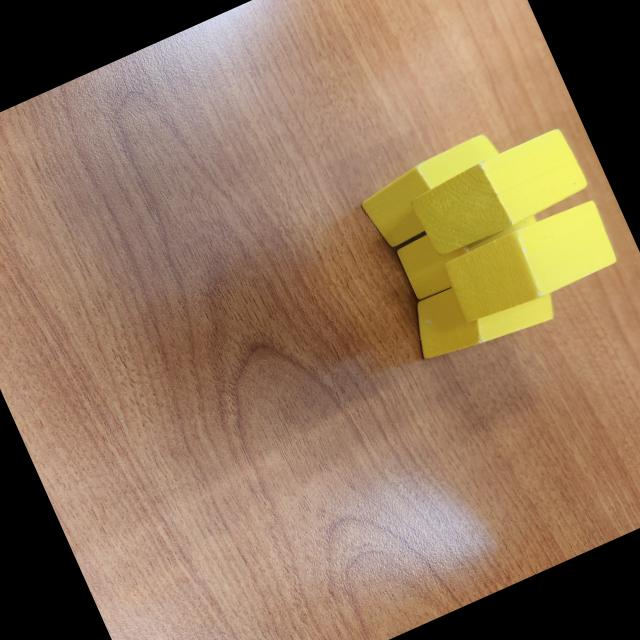yellow: (407, 124, 593, 260), (438, 195, 622, 332), (352, 130, 518, 254), (402, 248, 562, 374), (392, 190, 550, 304)
